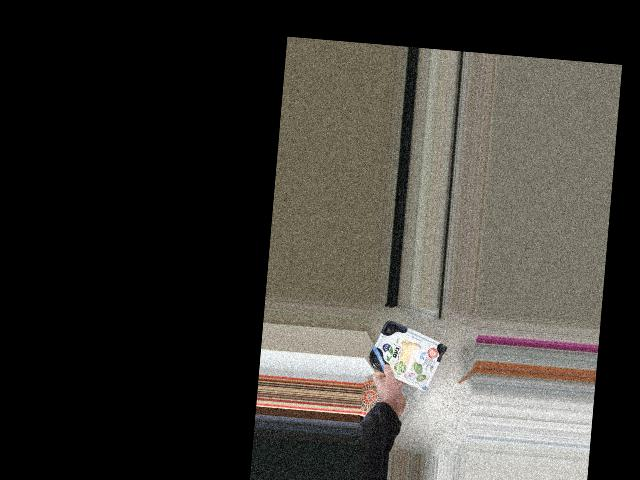cheese: (375, 328, 440, 384)
